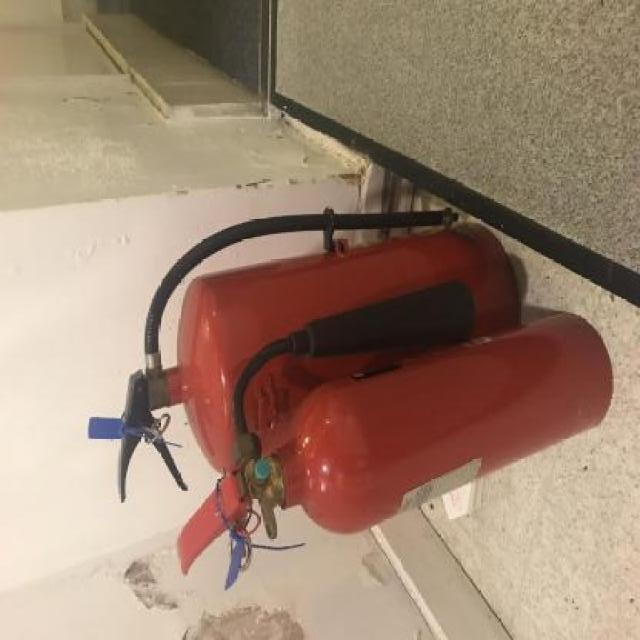fire extinguisher: (177, 278, 615, 591), (89, 204, 518, 502)
